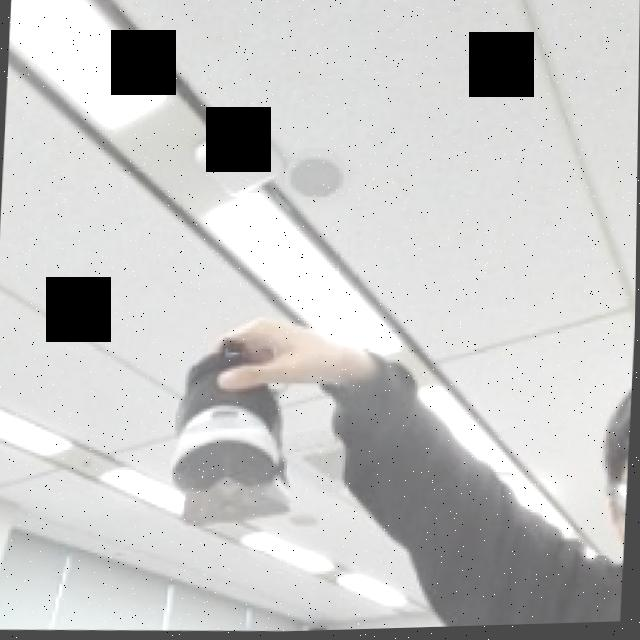shoe: (112, 292, 346, 557)
